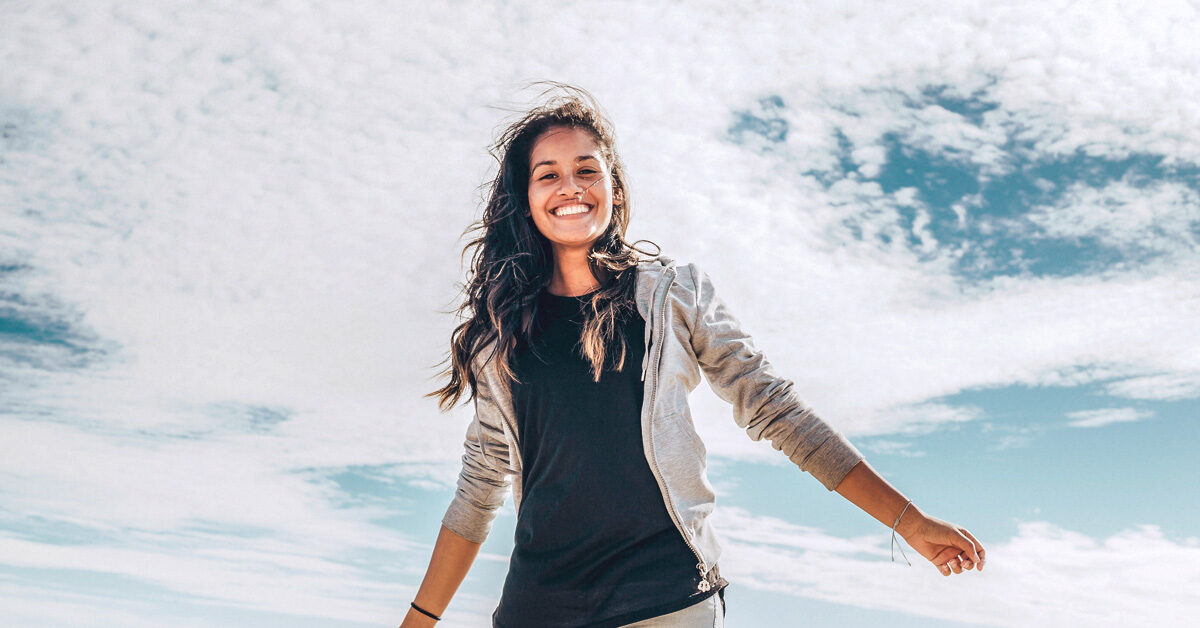Without Helmet: (497, 84, 626, 268)
